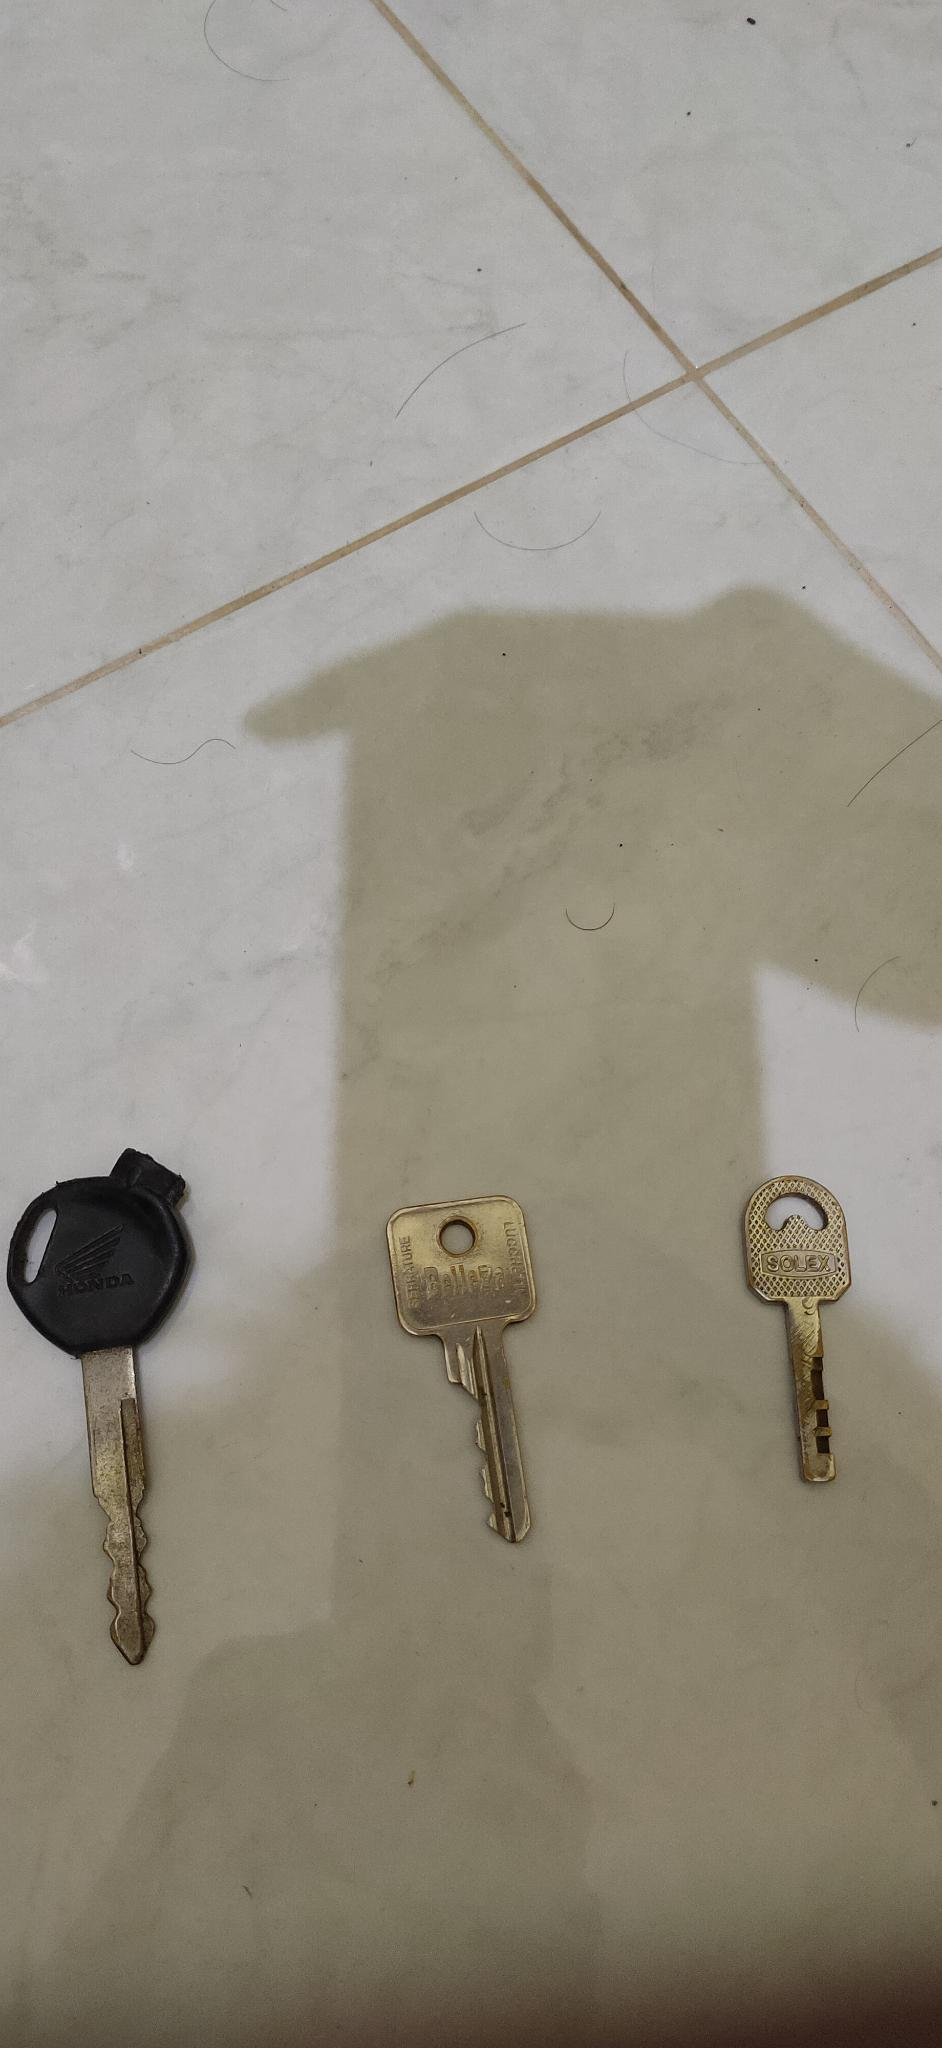keys: (10, 1147, 214, 1684), (368, 1168, 566, 1576), (711, 1168, 879, 1531)
